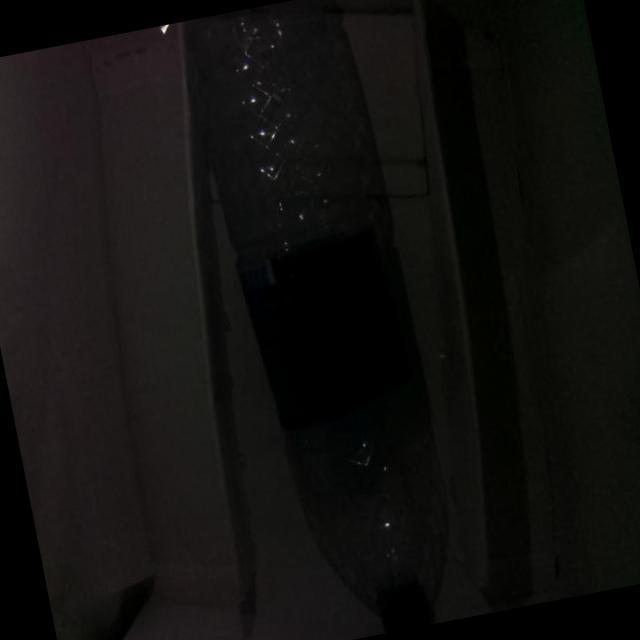good: (174, 0, 492, 640)
